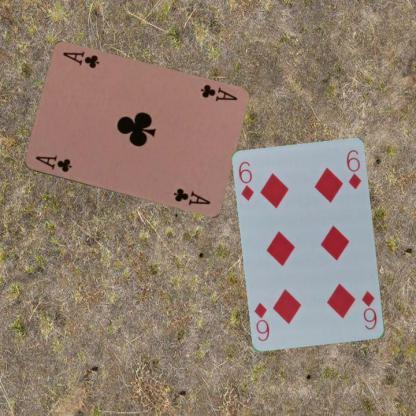6d: (235, 158, 256, 202), (358, 288, 378, 331)
Ac: (198, 81, 238, 103), (32, 153, 73, 174)
